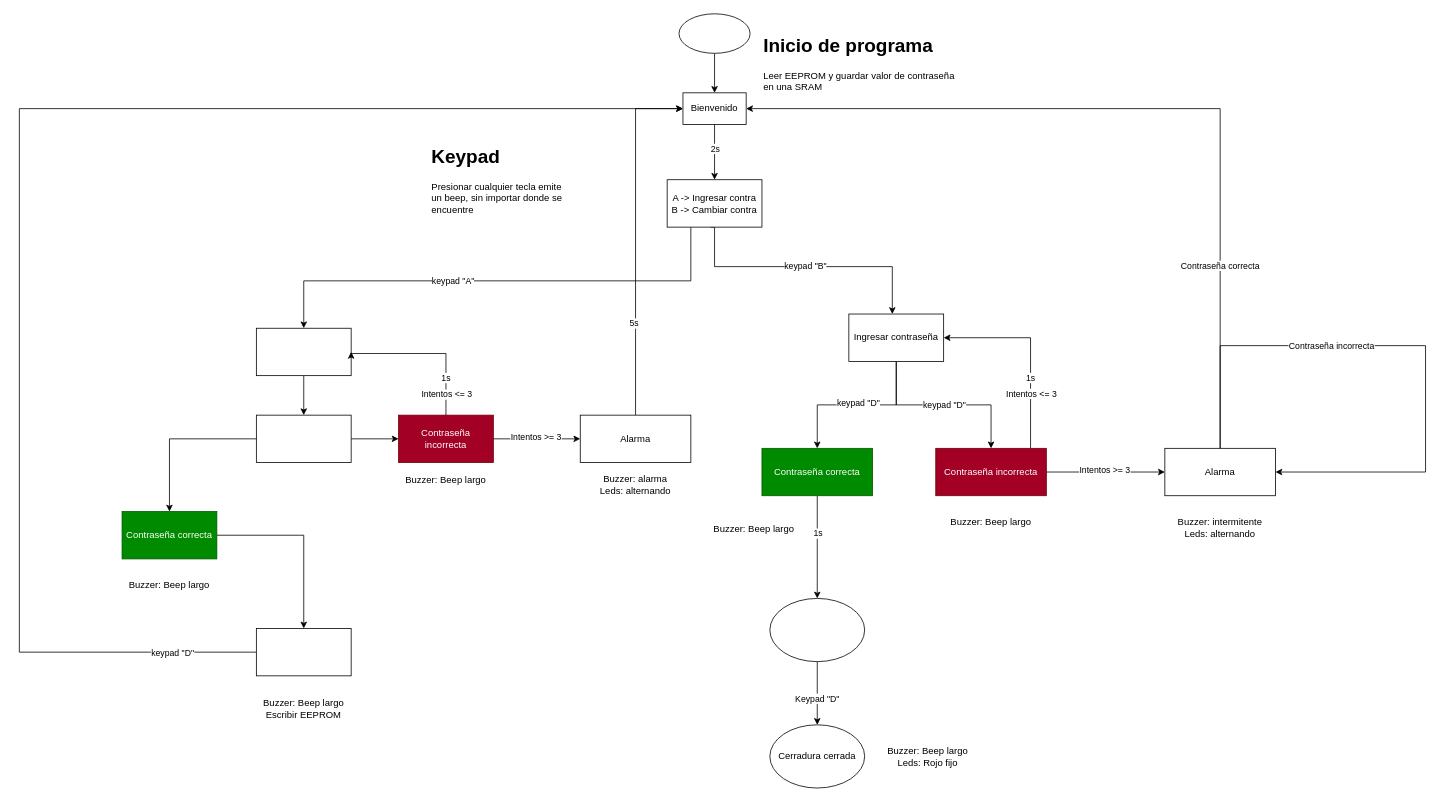
Image size: 1446x802. Some labels were removed from this diagram. The centre of each missing label's shape, as x and y in pixels:
Cambiar contraseña: the point at 303,351
Cerradura abierta: the point at 817,630
Contraseña actual: the point at 303,438
Contraseña nueva: the point at 303,652
Reset: the point at 714,33
